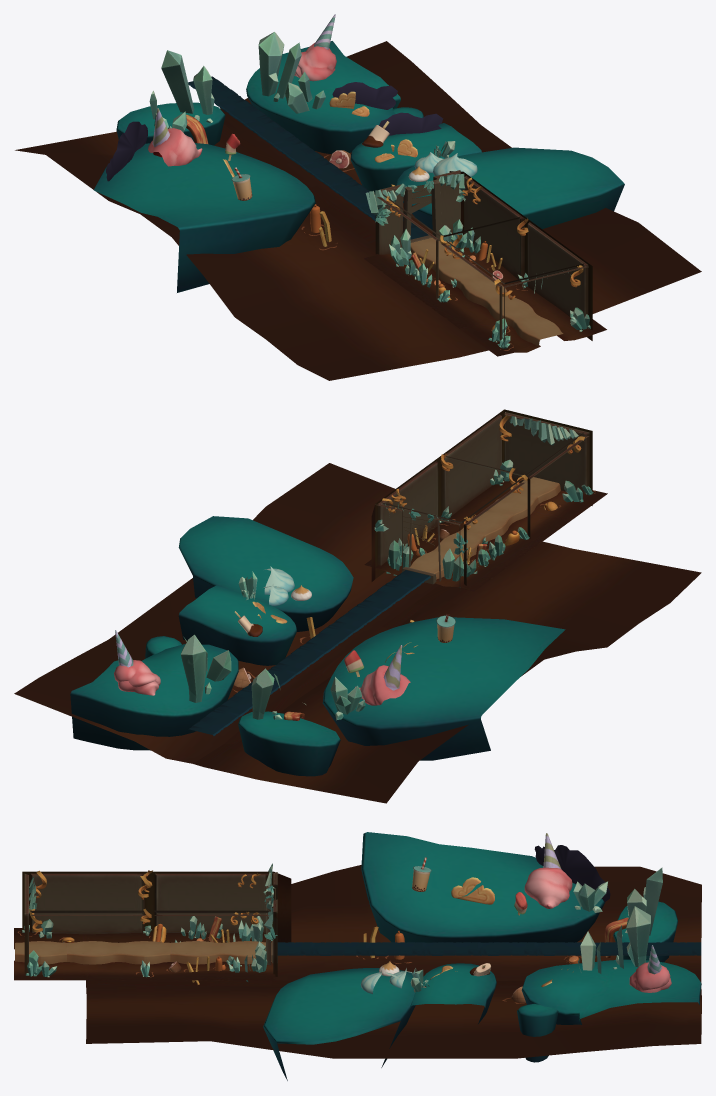
Rendered from stg3_Start.gltf.
The picture shows the model from 3 angles, top to bottom: view 1: azimuth 30°, elevation 25°; view 2: azimuth 150°, elevation 25°; view 3: azimuth 270°, elevation 25°; orthographic projection. The views are drawn at different scales.
Parts seen in each view (by area): view 1: land_GEO:PIV, island_GEO3:PIV, island_GEO7:PIV, path_GEO:PIV (×2), walls_GEO:PIV, island_GEO2:PIV, soy_GEO:PIV, crystal_gate_GEO1:PIV, island_GEO4:PIV, island_GEO1:PIV, fallencottoncandy_low_GEO2:PIV, fallencottoncandy_low_GEO:PIV (+9 smaller); view 2: land_GEO:PIV, island_GEO3:PIV, island_GEO7:PIV, island_GEO2:PIV, path_GEO:PIV (×2), walls_GEO:PIV, island_GEO4:PIV, soy_GEO:PIV, island_GEO1:PIV, walls_GEO3:PIV, crystal_gate_GEO1:PIV, walls_GEO1:PIV (+5 smaller); view 3: land_GEO:PIV, island_GEO3:PIV, walls_GEO:PIV, path_GEO:PIV (×2), island_GEO7:PIV, island_GEO2:PIV, soy_GEO:PIV, crystal_gate_GEO1:PIV, island_GEO4:PIV, walls_GEO1:PIV, fallencottoncandy_low_GEO2:PIV, bush_GEO3:PIV (+8 smaller).
Part boxes in pixels (left/top/right/bottom): land_GEO:PIV: left=15, top=41, right=701, bottom=380; island_GEO3:PIV: left=94, top=143, right=315, bottom=292; island_GEO7:PIV: left=396, top=147, right=624, bottom=229; path_GEO:PIV (×2): left=188, top=76, right=563, bottom=346; walls_GEO:PIV: left=377, top=176, right=588, bottom=340; island_GEO2:PIV: left=246, top=41, right=400, bottom=153; soy_GEO:PIV: left=364, top=244, right=606, bottom=356; crystal_gate_GEO1:PIV: left=149, top=32, right=325, bottom=123; island_GEO4:PIV: left=350, top=123, right=481, bottom=193; island_GEO1:PIV: left=116, top=102, right=225, bottom=145; fallencottoncandy_low_GEO2:PIV: left=148, top=108, right=202, bottom=166; fallencottoncandy_low_GEO:PIV: left=294, top=14, right=336, bottom=81; land_GEO:PIV: left=14, top=463, right=701, bottom=803; island_GEO3:PIV: left=322, top=617, right=565, bottom=760; island_GEO7:PIV: left=178, top=516, right=353, bottom=631; island_GEO2:PIV: left=70, top=644, right=238, bottom=750; path_GEO:PIV (×2): left=188, top=477, right=560, bottom=735; walls_GEO:PIV: left=377, top=415, right=588, bottom=585; island_GEO4:PIV: left=178, top=585, right=296, bottom=665; soy_GEO:PIV: left=364, top=479, right=607, bottom=591; island_GEO1:PIV: left=238, top=711, right=340, bottom=776; walls_GEO3:PIV: left=504, top=412, right=589, bottom=493; crystal_gate_GEO1:PIV: left=180, top=634, right=305, bottom=719; walls_GEO1:PIV: left=371, top=409, right=592, bottom=581; land_GEO:PIV: left=86, top=865, right=701, bottom=1058; island_GEO3:PIV: left=361, top=832, right=605, bottom=942; walls_GEO:PIV: left=30, top=873, right=269, bottom=934; path_GEO:PIV (×2): left=15, top=941, right=701, bottom=964; island_GEO7:PIV: left=263, top=968, right=419, bottom=1080; island_GEO2:PIV: left=521, top=959, right=701, bottom=1024; soy_GEO:PIV: left=14, top=928, right=275, bottom=980; crystal_gate_GEO1:PIV: left=577, top=867, right=662, bottom=973; island_GEO4:PIV: left=410, top=963, right=496, bottom=1023; walls_GEO1:PIV: left=22, top=871, right=291, bottom=942; fallencottoncandy_low_GEO2:PIV: left=524, top=833, right=572, bottom=908; bush_GEO3:PIV: left=534, top=845, right=610, bottom=902.
Size of the model in its own units: 15443 by 4049 by 23289.
9 materials, 8 textured.
